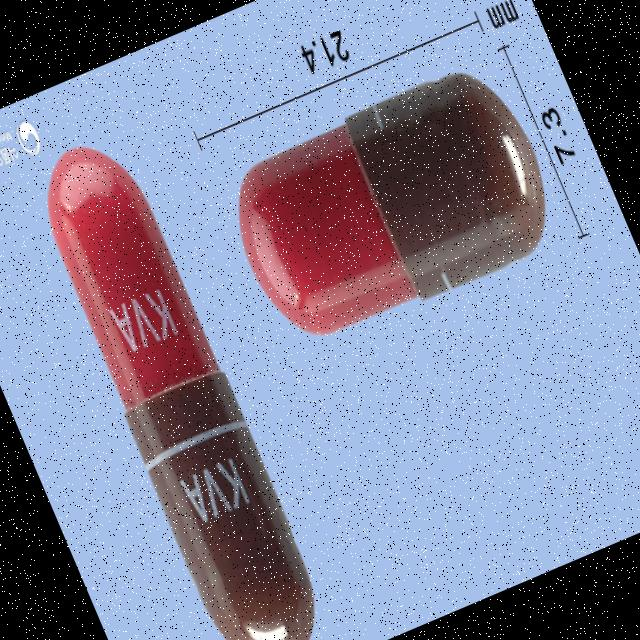Vancozin Cap-250mg: (18, 129, 340, 640), (208, 52, 571, 358)
